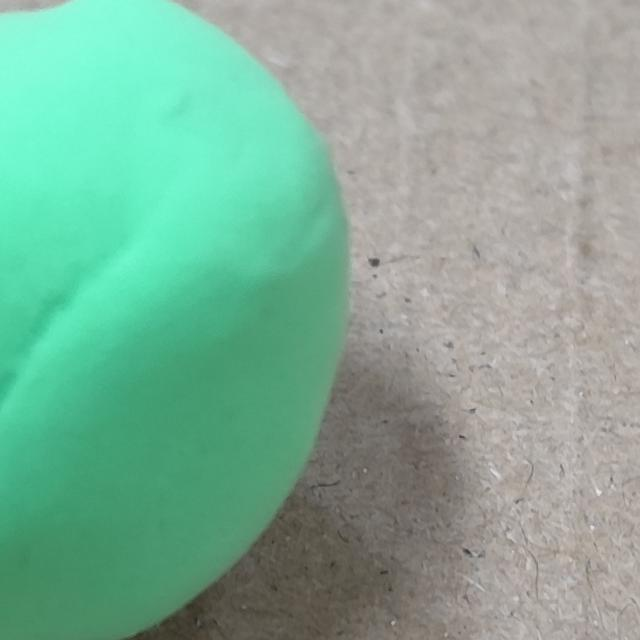good: (0, 0, 344, 640)
